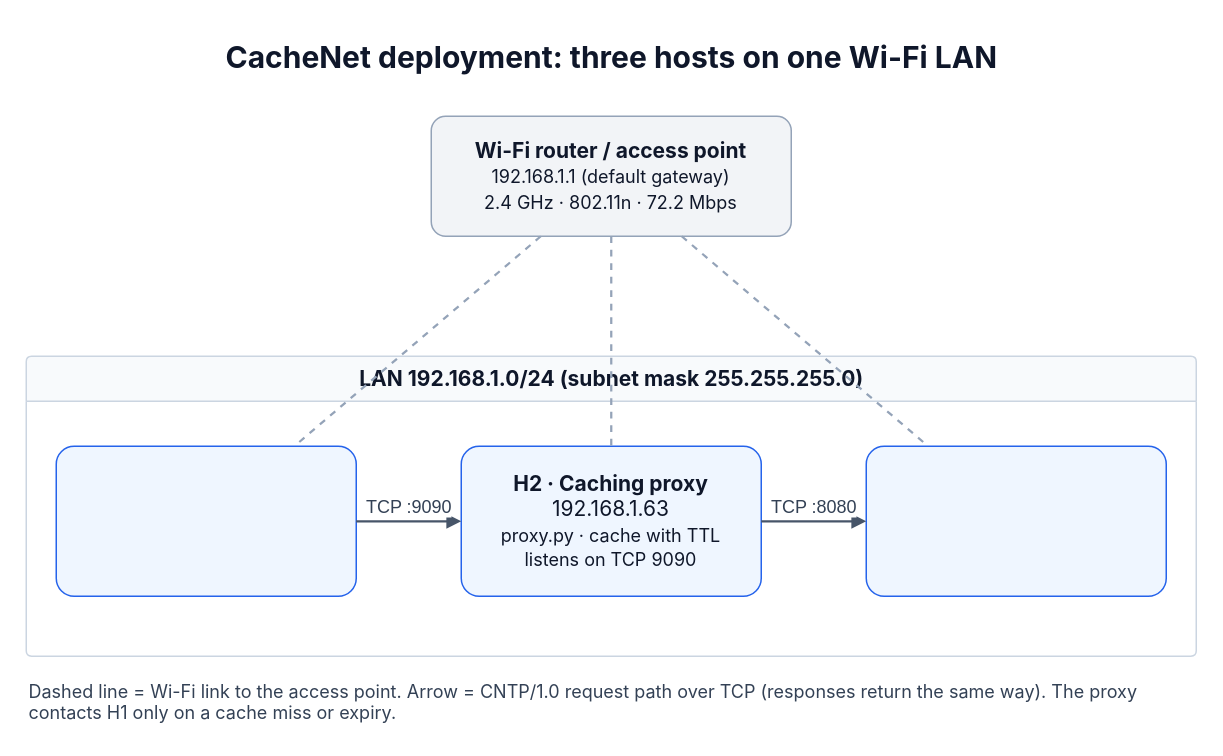
This 1223x756 diagram has some shape labels left out. The centre of each missing label's shape, as x and y in pixels:
"H1 · Origin server 192.168.1.103 server.py · www/ objects listens on TCP 8080" goes at (x=1015, y=520).
"H3 · Client 192.168.1.11 client.py · ui.py · bench.py port: ephemeral" goes at (x=205, y=520).
